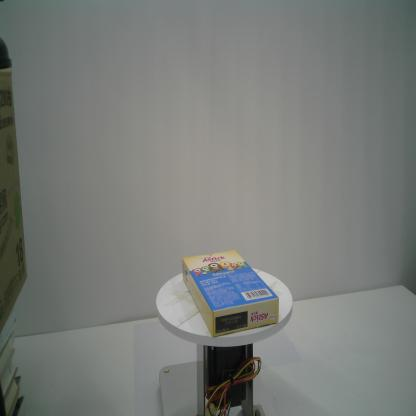Dessert: (181, 248, 280, 338)
